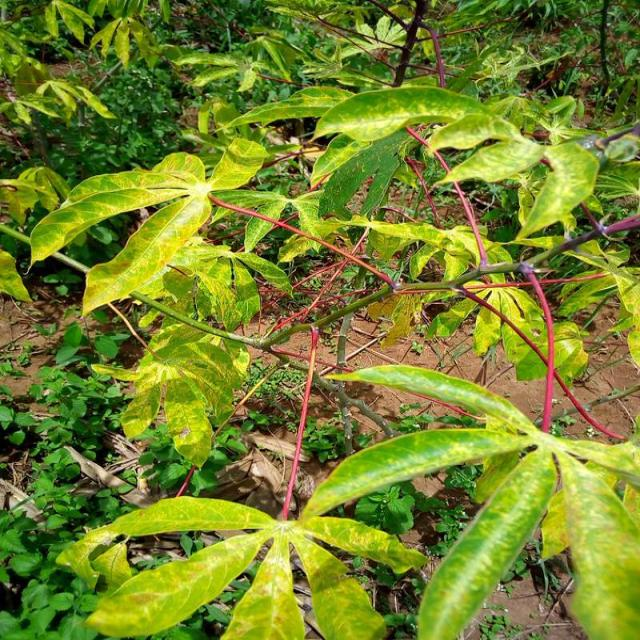cassava leaf: (28, 135, 270, 318), (417, 444, 557, 638), (311, 82, 494, 144), (515, 139, 599, 240)
